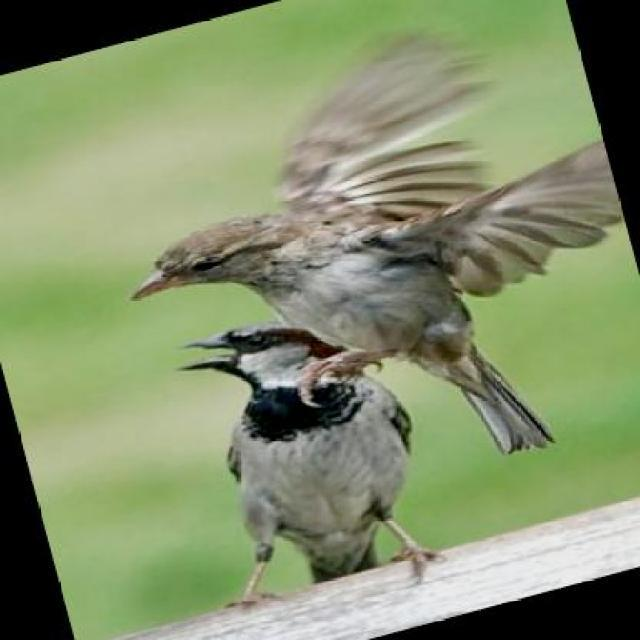Bird: (131, 41, 625, 456), (180, 316, 448, 612)
